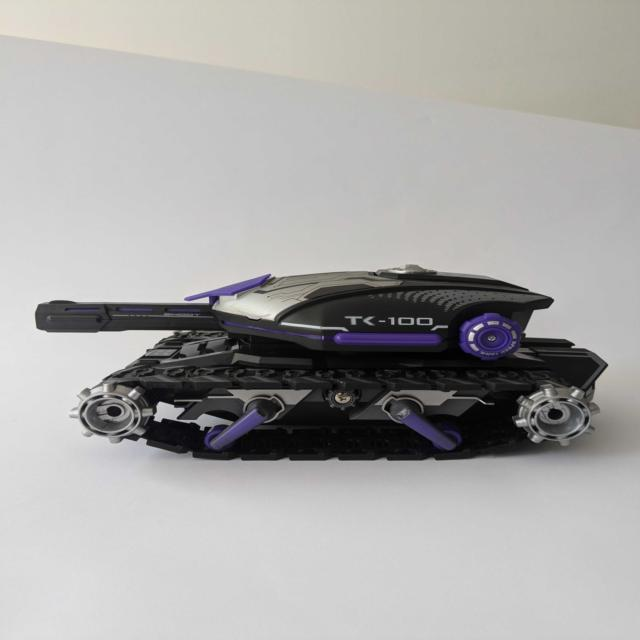barrel: (34, 298, 228, 332)
